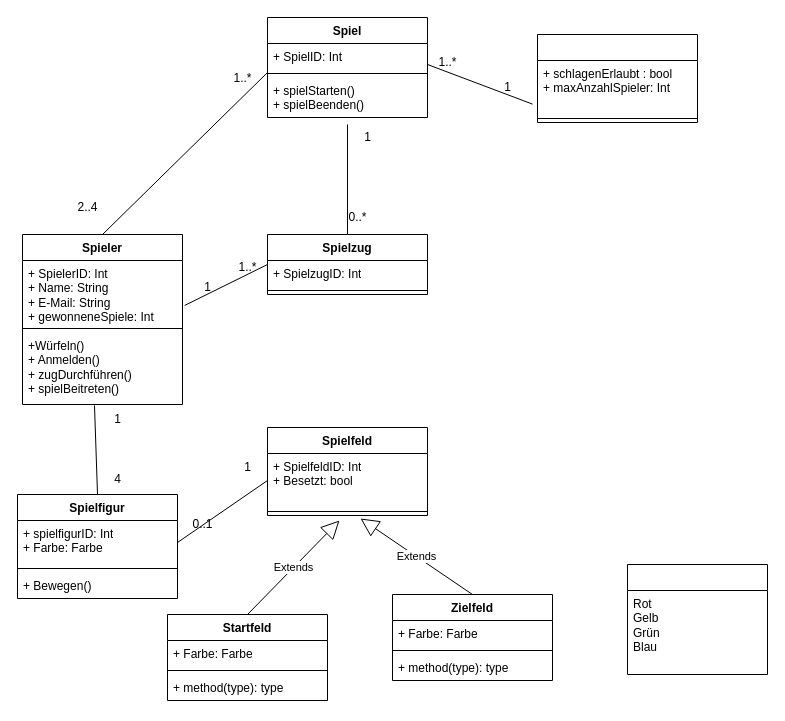
Some shapes in this 785 by 721 pixel diagram are drawn without their labels. The box of each missing label's shape, as (x1, y1, x2, y2) in pixels:
Farbe: (626, 564, 768, 674)
Regelwerk: (536, 34, 698, 122)
